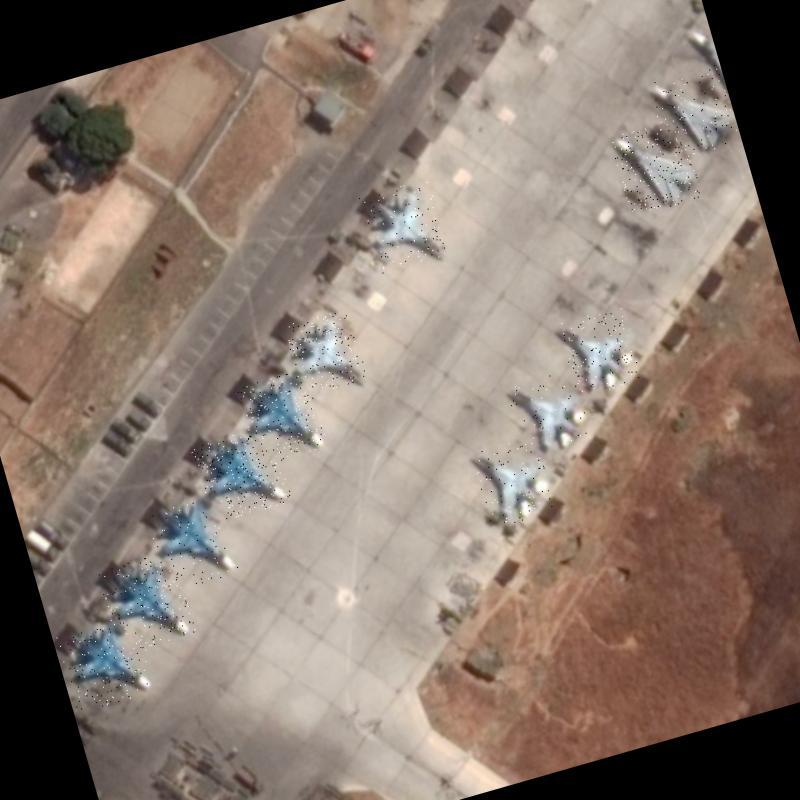A1: (358, 178, 450, 274), (504, 366, 592, 458), (470, 436, 556, 528), (557, 306, 642, 398), (283, 306, 368, 397)
A19: (97, 549, 196, 654), (190, 424, 292, 524), (144, 488, 241, 593), (56, 614, 158, 713), (236, 368, 328, 466)
A20: (609, 116, 704, 217), (647, 63, 741, 162)
